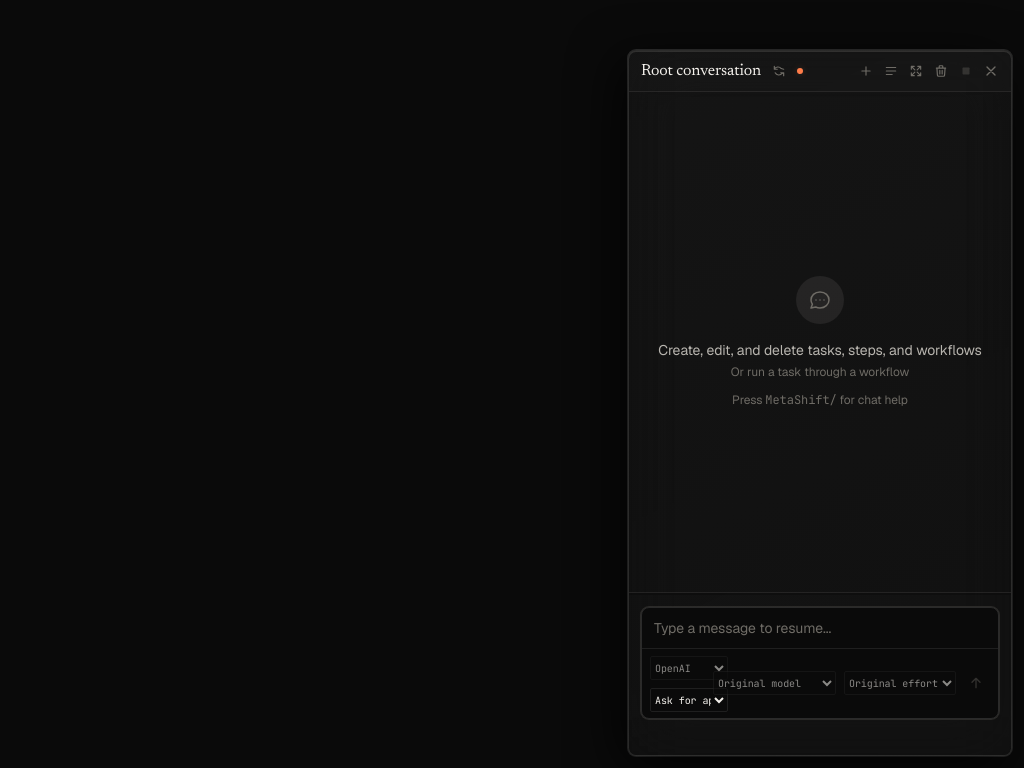
it: ChatWindowManager › discovers Codex child sessions outside the parent replay page and renders the selected conversation
This screenshot has width=1024, height=768.
Click the button named "Widen chat panel": point(916, 71) [904,59,928,83]
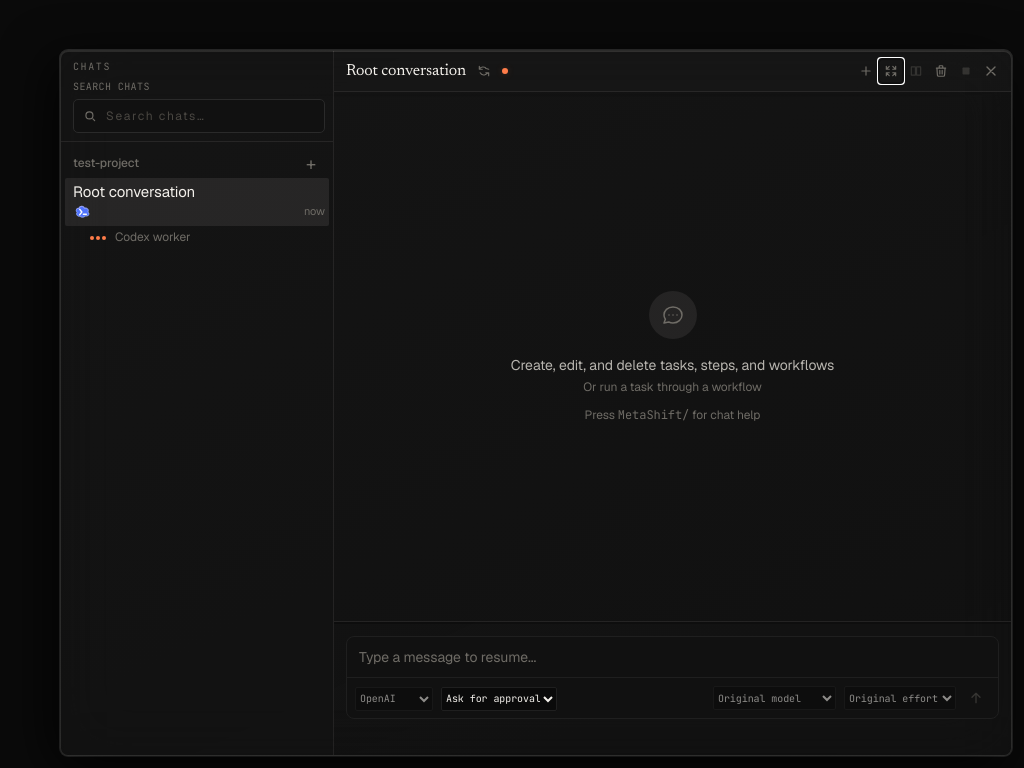
Now the message with test id "thinking-indicator" is shown, box [90,236,106,240]
Click the button with aria-label "Open spawned agent Codex worker from Root conversation": point(203, 238) [77,226,329,250]
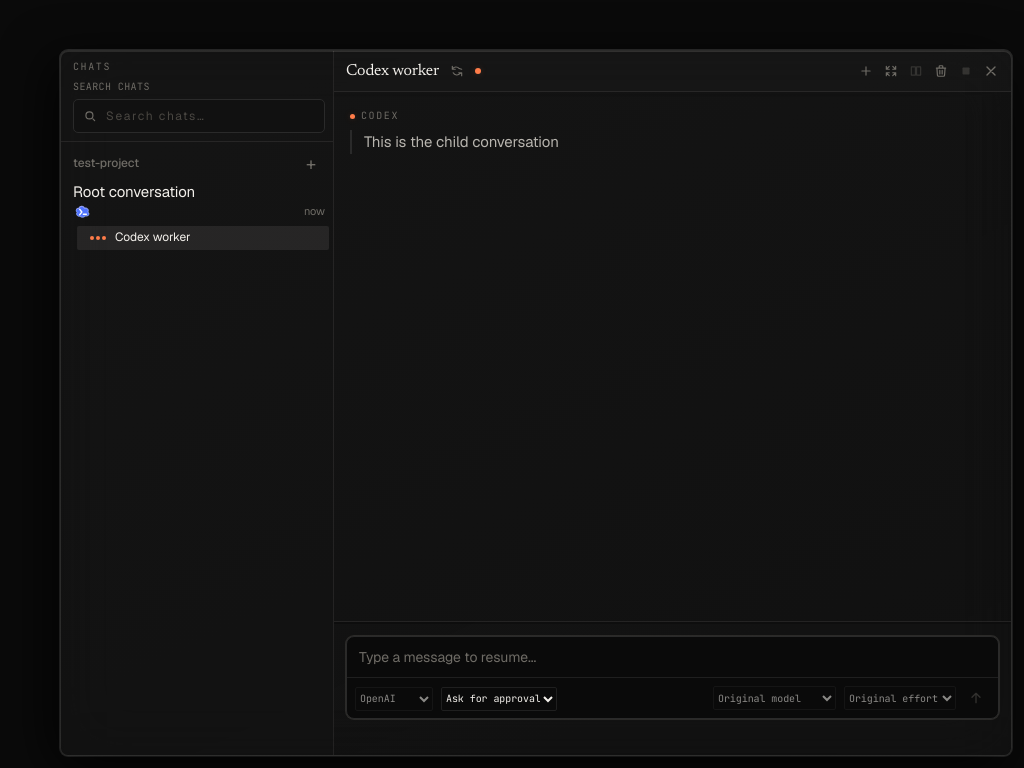
Now the text "This is the child conversation" is shown, box [364,132,559,151]
